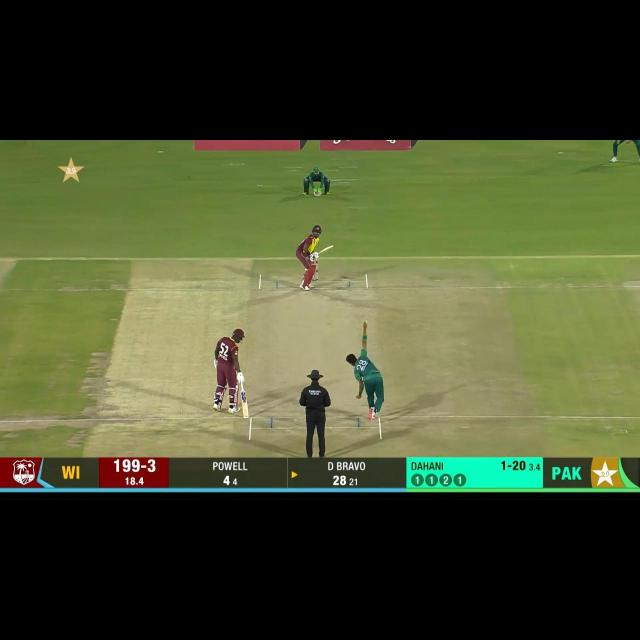bat: (238, 389, 252, 420), (316, 245, 335, 256)
toe: (242, 413, 249, 420), (328, 244, 334, 250)
